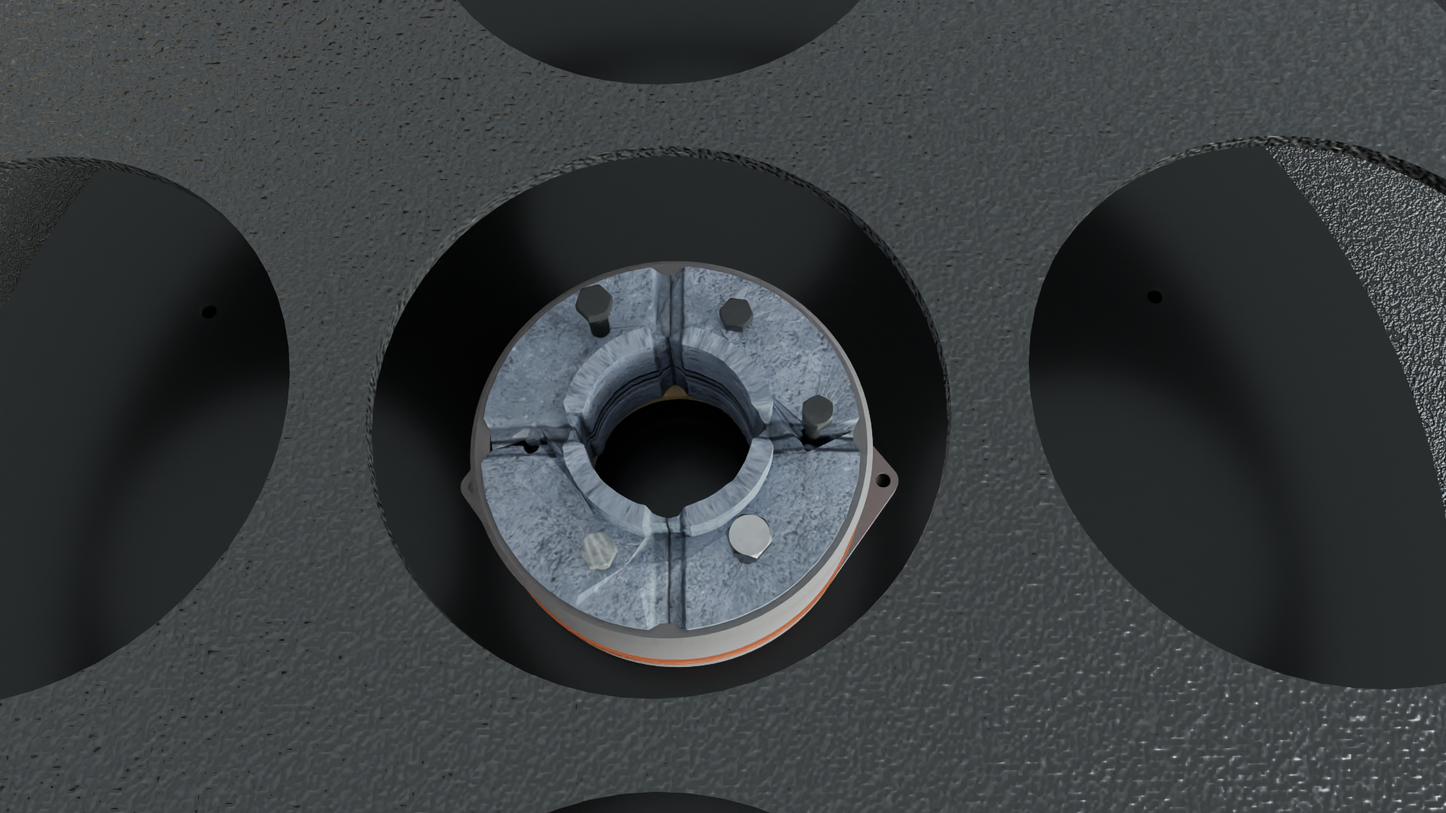bolt: (726, 514, 773, 558), (578, 533, 617, 567), (575, 285, 612, 318), (719, 298, 753, 327), (803, 395, 833, 427)
